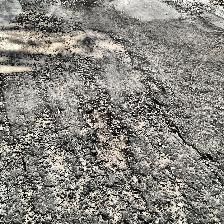pothole: (76, 97, 132, 171), (130, 96, 164, 124)
